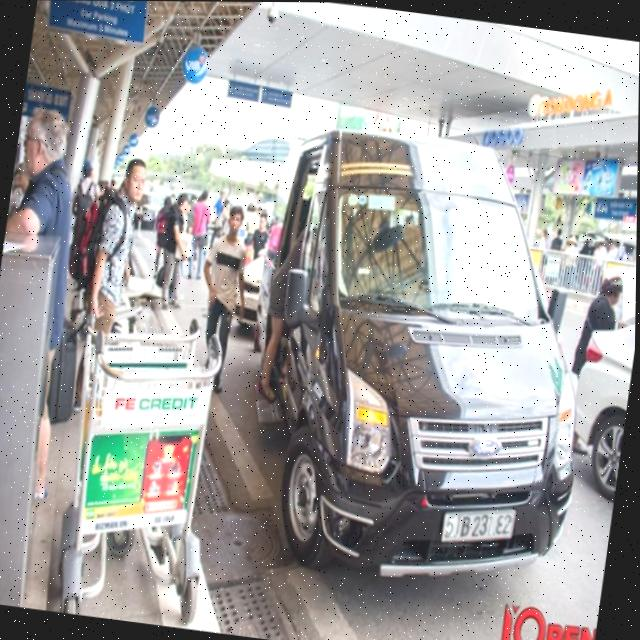car: (240, 116, 621, 621), (554, 265, 636, 515)
plate: (436, 498, 520, 553)
